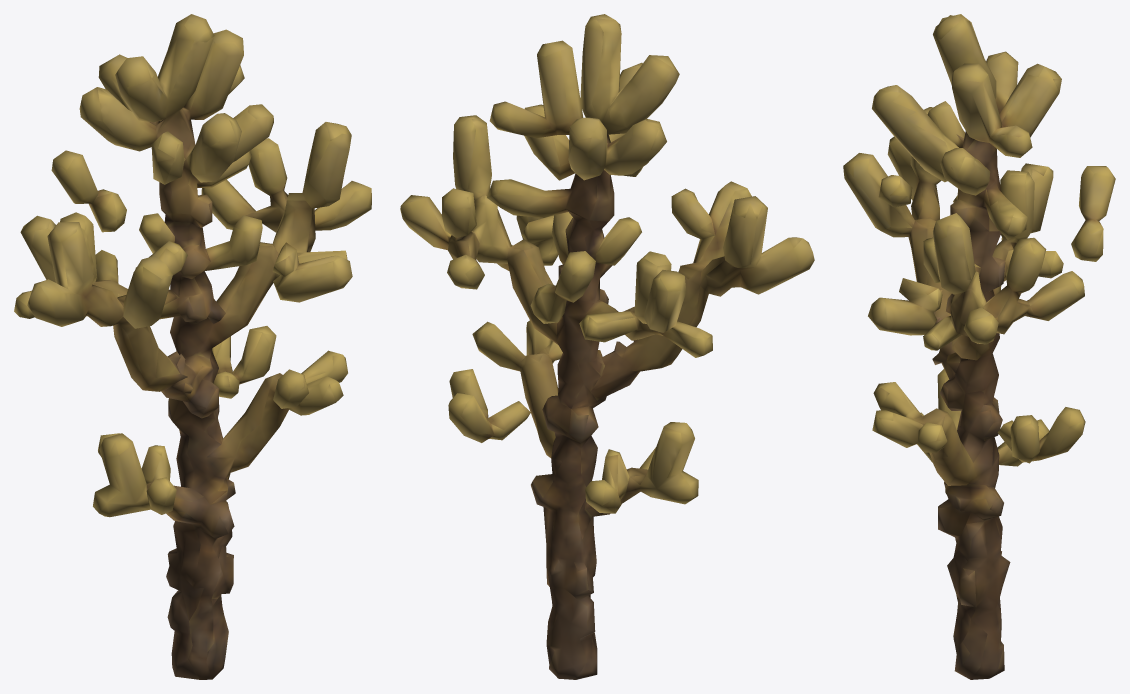
The model's file is cholla.glb.
3 views of the same model, side by side, from view 1: azimuth 30°, elevation 25°; view 2: azimuth 150°, elevation 25°; view 3: azimuth 270°, elevation 25° (orthographic). The views are drawn at different scales.
Visible parts, largest first — view 1: LO.001; view 2: LO.001; view 3: LO.001.
Part boxes in pixels (x1=…): LO.001: x1=14, y1=14, x2=371, y2=679; LO.001: x1=400, y1=14, x2=814, y2=679; LO.001: x1=843, y1=14, x2=1115, y2=679.
Size of the model in its own units: 1.2 by 2 by 0.7656.
1 material, 1 textured.
